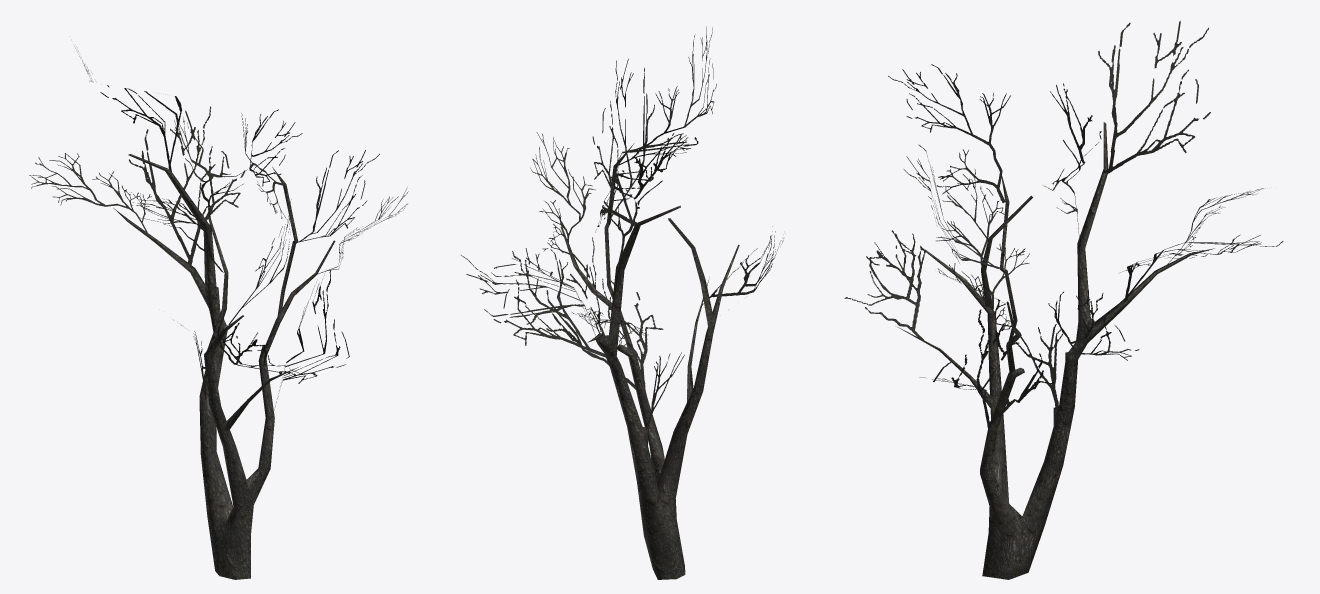
Rendered from tree_deciduous_03a.glb.
The picture shows the model from 3 angles, left to right: view 1: azimuth 30°, elevation 25°; view 2: azimuth 150°, elevation 25°; view 3: azimuth 270°, elevation 25°; orthographic projection. The views are drawn at different scales.
Parts seen in each view (by area): view 1: 1_tree_deciduous_01a_trunk, 0_tree_deciduous_01a_branches; view 2: 1_tree_deciduous_01a_trunk, 0_tree_deciduous_01a_branches; view 3: 1_tree_deciduous_01a_trunk, 0_tree_deciduous_01a_branches.
Part boxes in pixels (x1,y1,x2,y2): 1_tree_deciduous_01a_trunk: (113, 154, 335, 579); 0_tree_deciduous_01a_branches: (29, 46, 408, 410); 1_tree_deciduous_01a_trunk: (560, 143, 739, 579); 0_tree_deciduous_01a_branches: (461, 26, 783, 429); 1_tree_deciduous_01a_trunk: (897, 122, 1214, 579); 0_tree_deciduous_01a_branches: (844, 21, 1283, 428).
Bounding box in the file's own units: 4.02 × 6.38 × 5.11.
2 materials, 2 textured.
